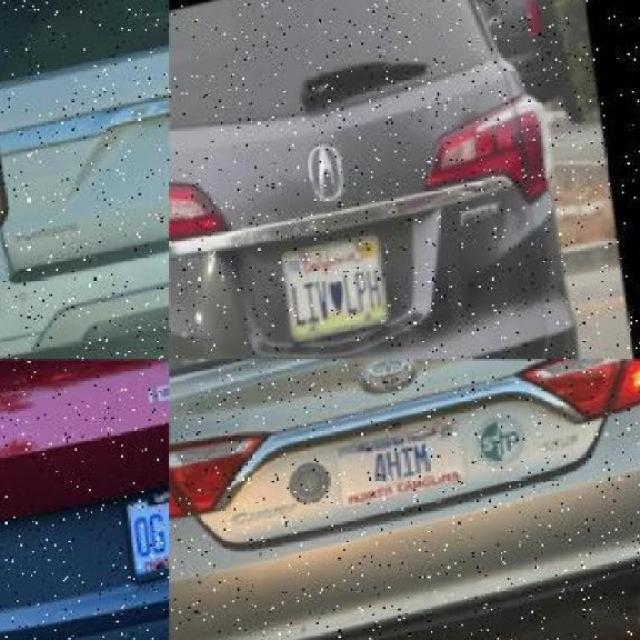license-plate: (269, 238, 407, 342), (335, 416, 471, 512)
